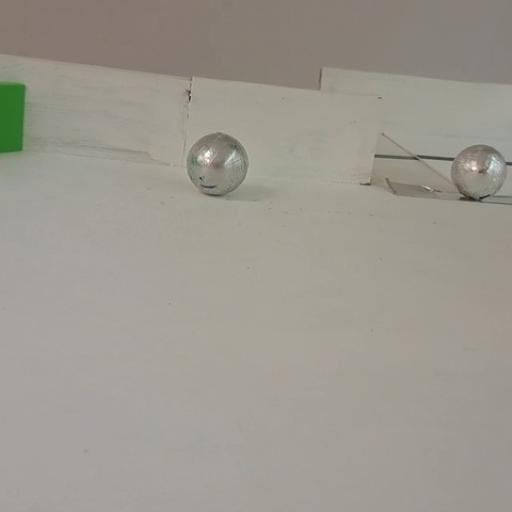alive: (185, 132, 249, 196), (449, 144, 508, 200)
